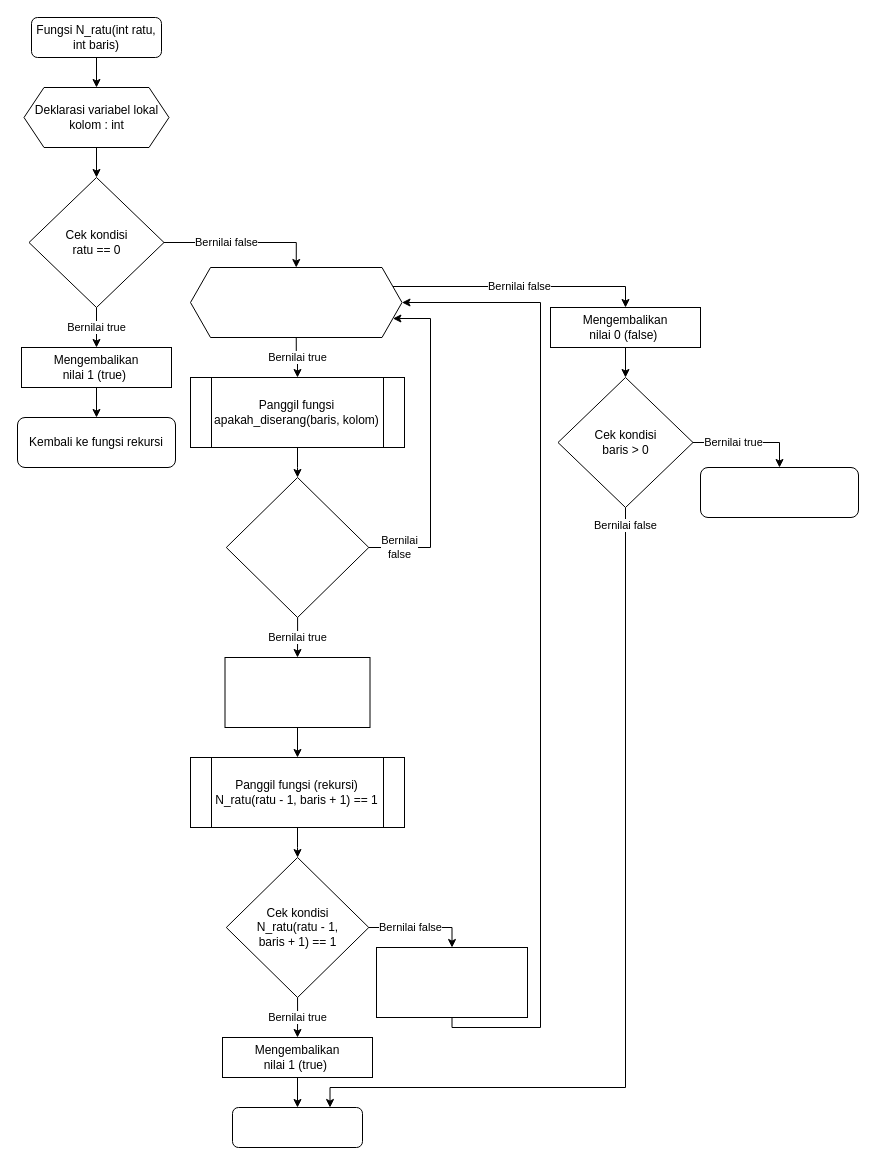
This 876x1165 diagram has some shape labels left out. Each missing label, with the centre of its shape:
"Backtracking kembali ke baris sebelumnya" belongs at point 779,492.
"Cek kondisi apakah_diserang(baris, kolom) != 1" belongs at point 297,547.
"Eksekusi papan[baris][kolom] = 0 /*menghapus ratu dari posisi ini*/" belongs at point 452,982.
"Eksekusi papan[baris][kolom] = 1 /*menempatkan ratu di posisi ini*/" belongs at point 297,692.
"for(kolom = 0; kolom < n; kolom++)" belongs at point 296,302.
"Menuju program utama" belongs at point 297,1127.
